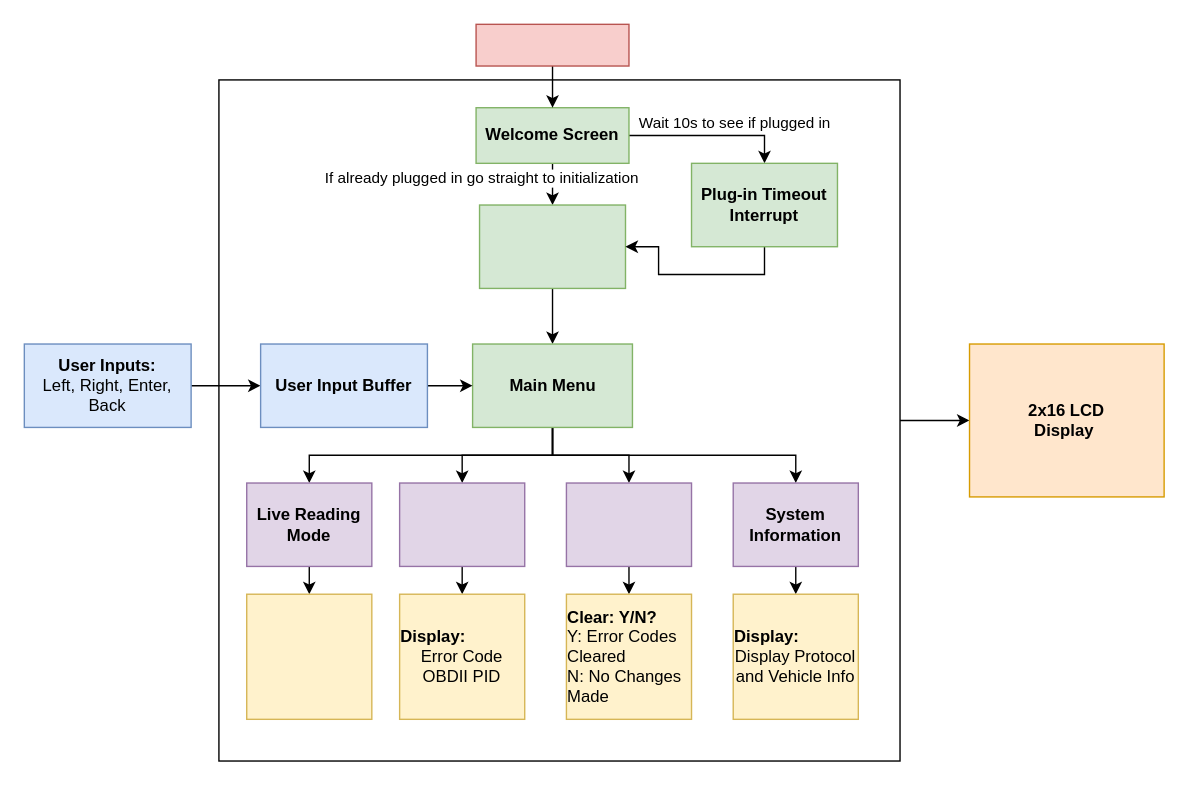
Image size: 1188x785. Some labels were removed from this diagram. The shapes that lost their labels are listed below. From the top down, each one's centre as x and y in pixels, then its label:
At (552,44): "Power On".
At (552,246): "Scanner Initialization Displays Protocol".
At (461,524): "Scan Error Code Mode".
At (628,524): "Clear Error Code Mode".
At (308,656): "Display: RPM Air Intake Temp Coolant Temp Battery Voltage".
